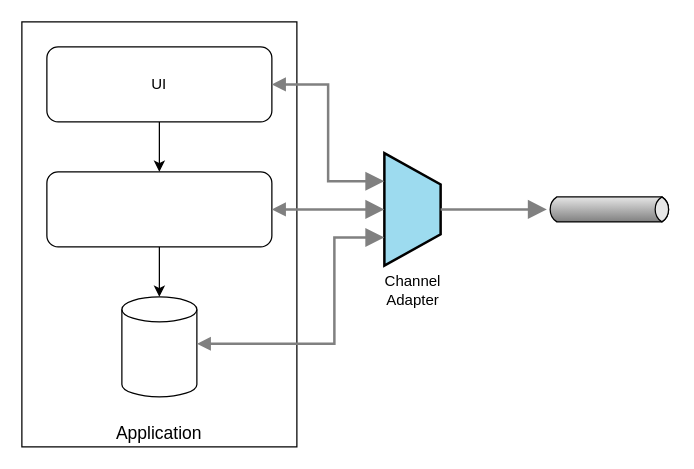
Some shapes in this 694 by 469 pixel diagram are drawn without their labels. Each missing label, with the centre of its shape:
Business Logic: the point at 159,209
Database: the point at 159,346
